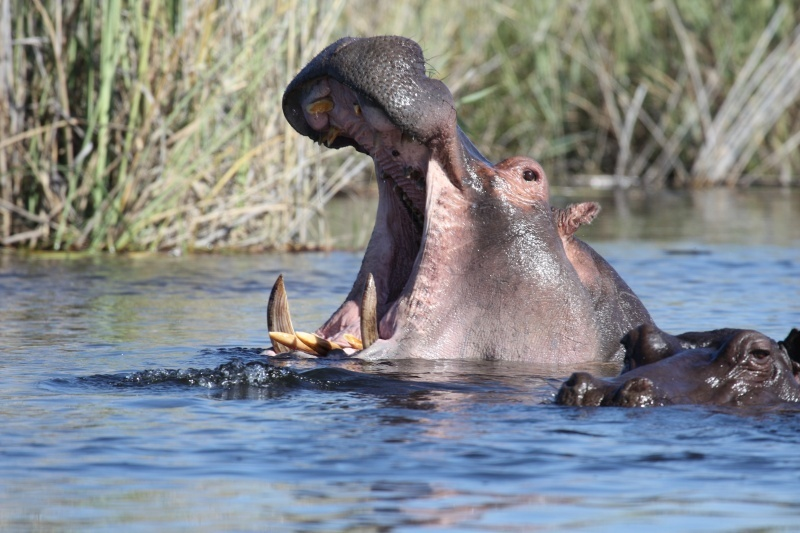hipopotamo: (237, 28, 677, 406), (551, 299, 800, 462)
